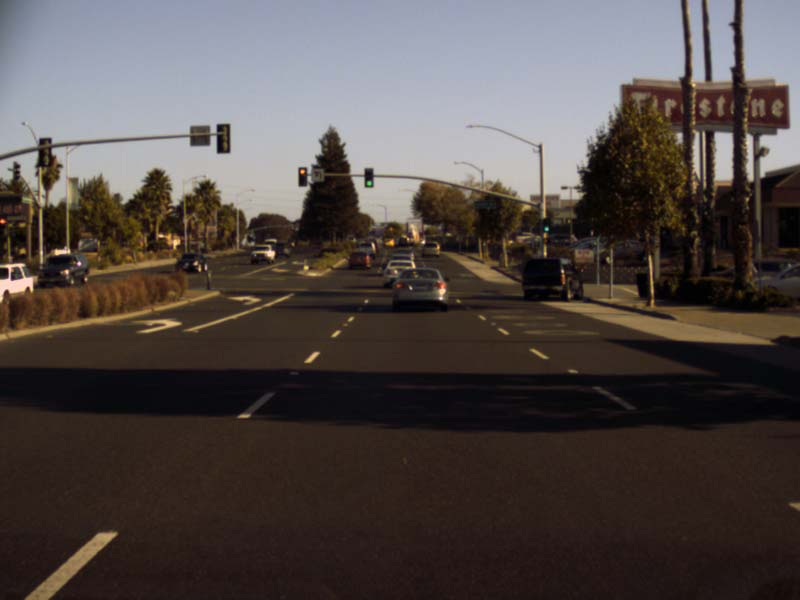Green: (363, 167, 372, 187), (541, 218, 549, 235)
Red: (297, 165, 307, 187)
